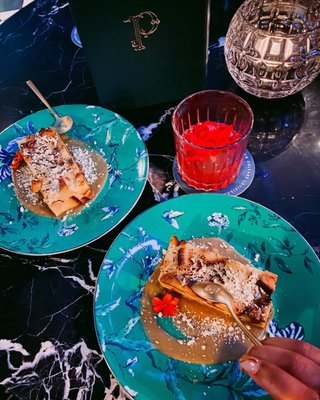pizza: (170, 90, 254, 192)
soup: (140, 236, 278, 365)
